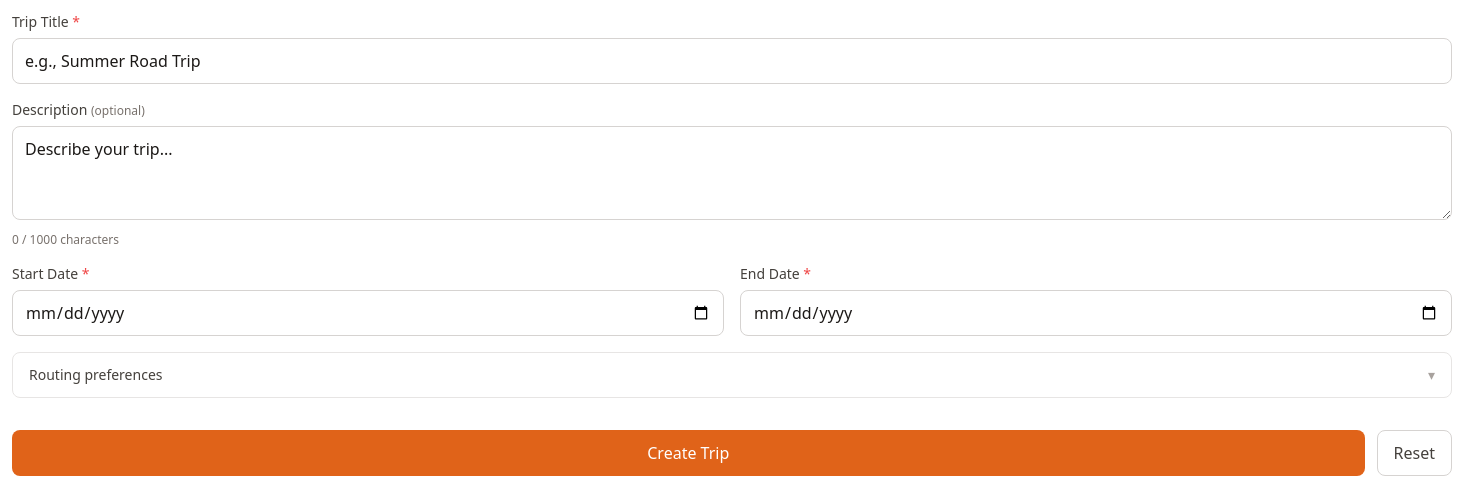
TripForm Component › Form Reset › should clear all fields when reset button is clicked
Type "Reset Test" into the field labelled "Trip Title *" at (732,61), box [12,38,1452,84]
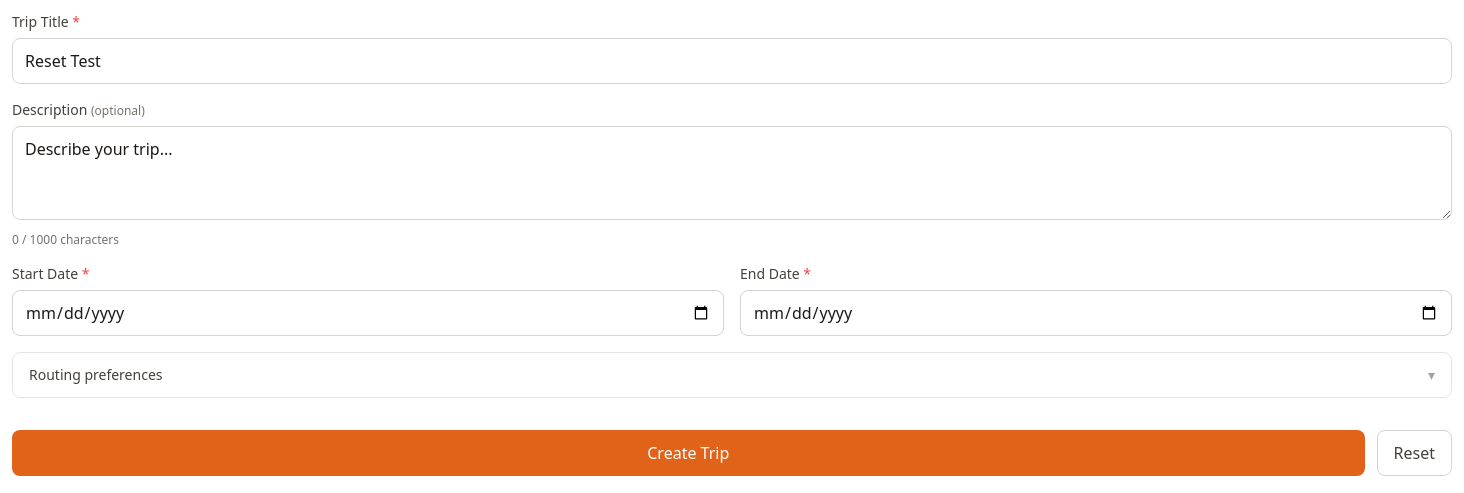
Type "Reset description" into the text box labelled "Description (optional)" at (732,173), box [12,126,1452,220]
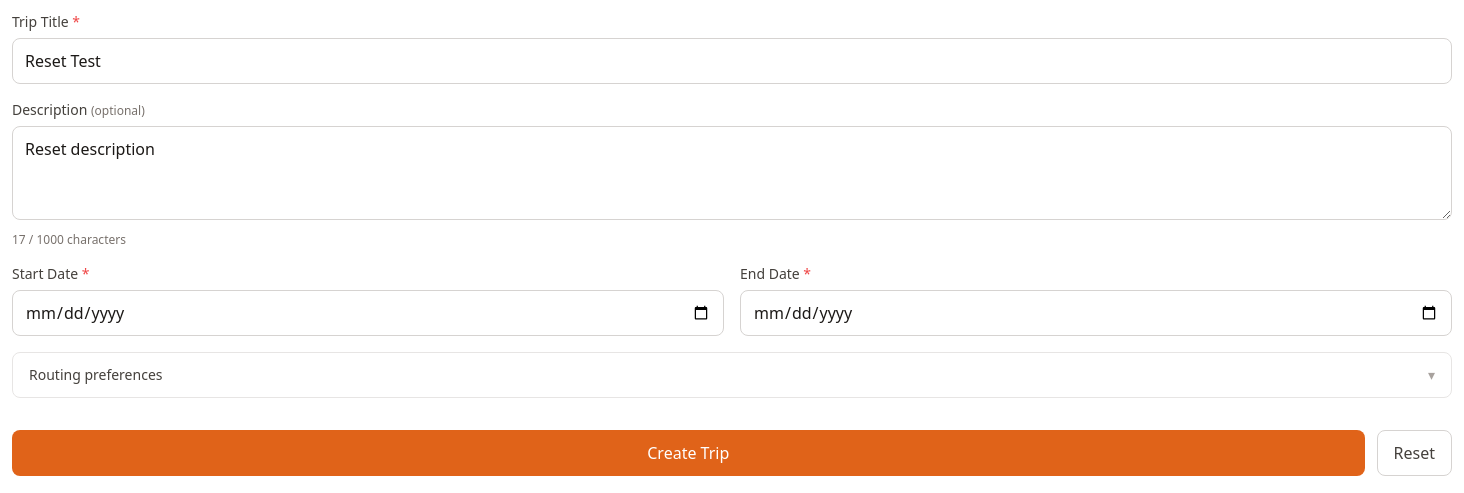
Type "2026-12-01" into the date field labelled "Start Date *" at (368,313), box [12,290,724,336]
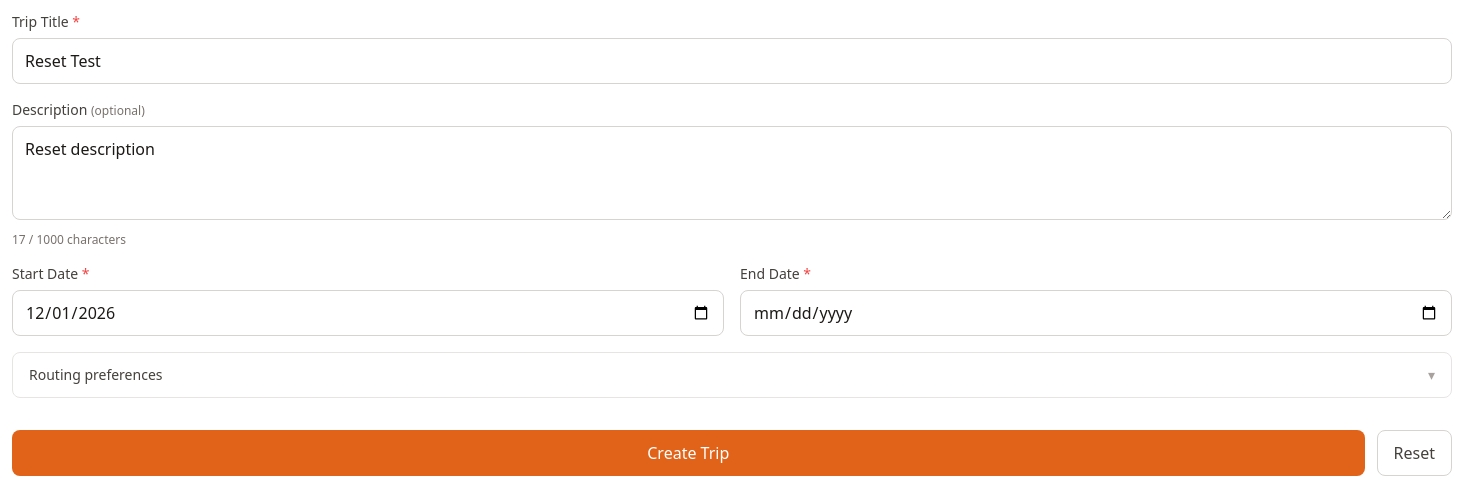
Type "2026-12-05" into the date field labelled "End Date *" at (1096,313), box [740,290,1452,336]
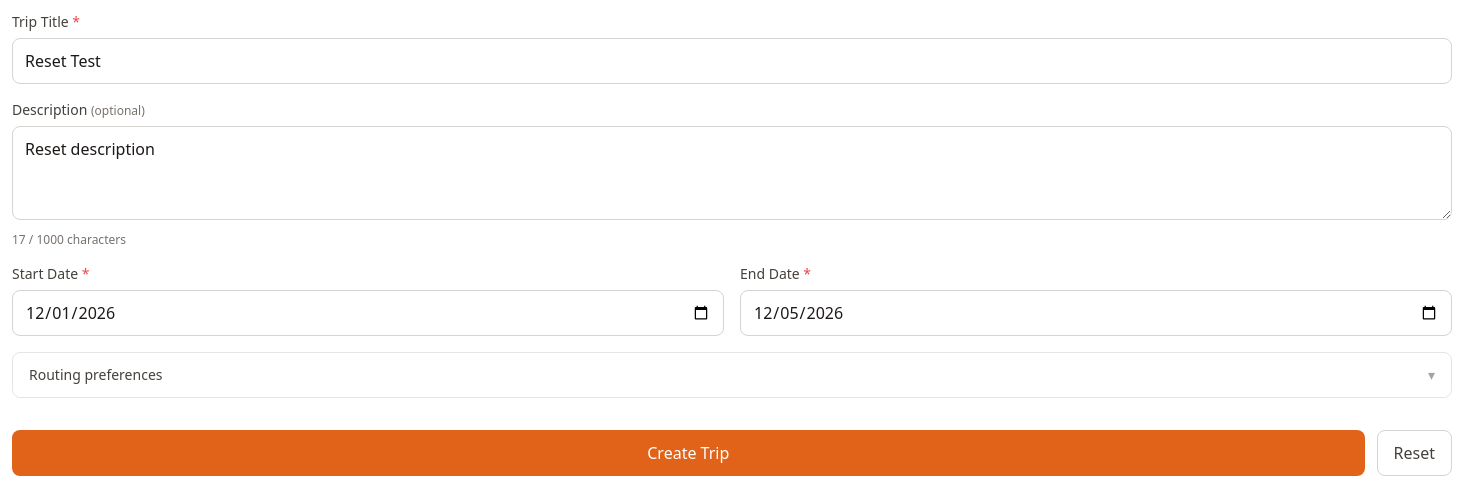
# Click reset
Click the button "Reset" at (1414,453), box [1376,430,1452,476]
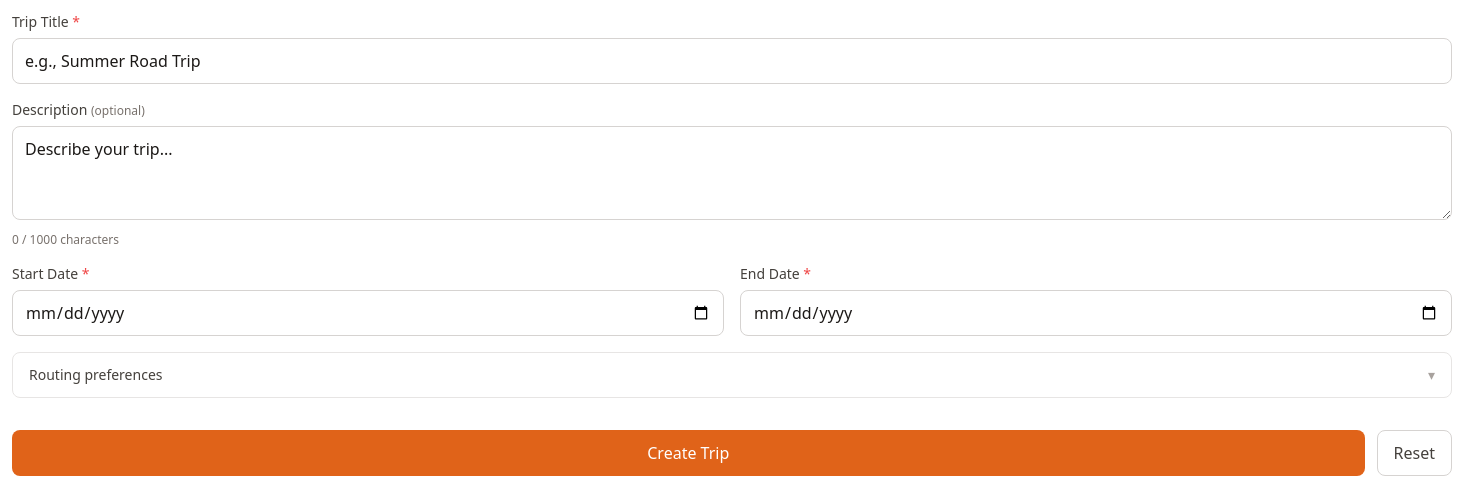
Expected: the field labelled "Trip Title *" is empty, [12,38,1452,84]
Expected: the text box labelled "Description (optional)" is empty, [12,126,1452,220]
Expected: the date field labelled "Start Date *" is empty, [12,290,724,336]
